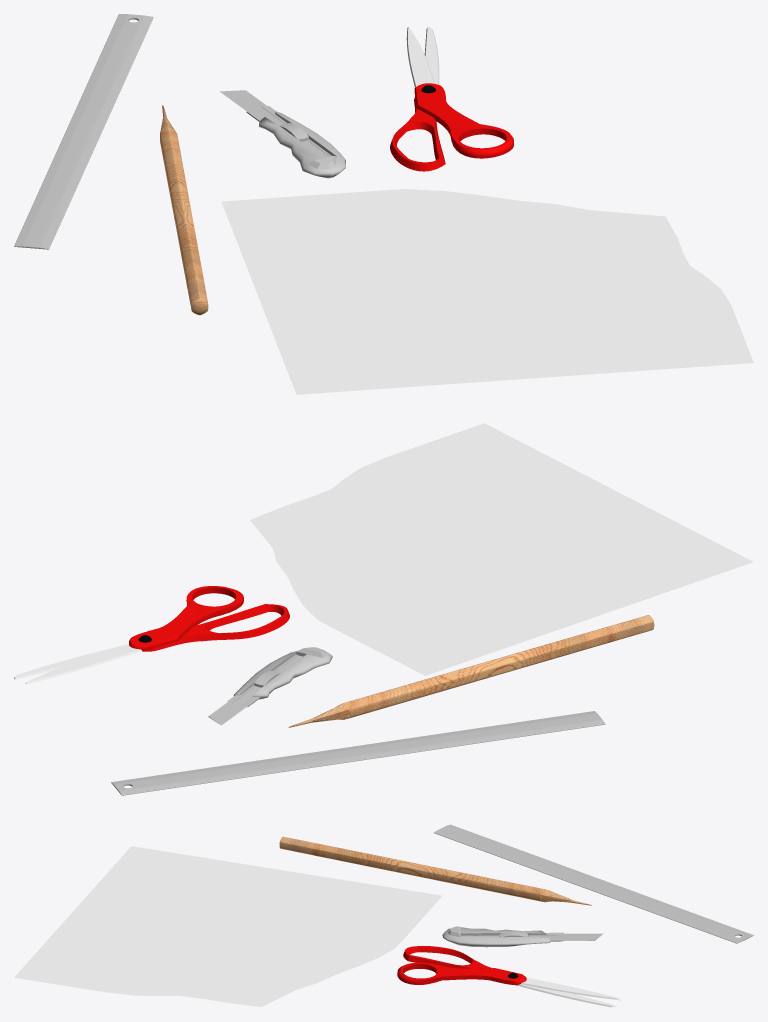
Rendered from Accessories.fbx.
The picture shows the model from 3 angles, top to bottom: view 1: azimuth 30°, elevation 25°; view 2: azimuth 150°, elevation 25°; view 3: azimuth 270°, elevation 25°; orthographic projection. The views are drawn at different scales.
Visible parts, largest first — view 1: pPlane1, _ruler_V1, Scissors, KOH-I-NOOR, Box04; view 2: pPlane1, _ruler_V1, Scissors, KOH-I-NOOR, Box04; view 3: pPlane1, _ruler_V1, KOH-I-NOOR, Scissors, Box04.
Boxes of the visible parts, box(x1,y1,x2,y2) form: pPlane1: box(221, 189, 753, 394); _ruler_V1: box(14, 14, 153, 249); Scissors: box(390, 26, 513, 171); KOH-I-NOOR: box(160, 105, 208, 315); Box04: box(219, 90, 345, 178); pPlane1: box(250, 423, 753, 675); _ruler_V1: box(111, 711, 605, 795); Scissors: box(14, 586, 289, 683); KOH-I-NOOR: box(288, 615, 654, 727); Box04: box(208, 647, 332, 725); pPlane1: box(14, 846, 442, 1006); _ruler_V1: box(434, 824, 753, 943); KOH-I-NOOR: box(279, 836, 591, 905); Scissors: box(397, 946, 621, 1007); Box04: box(442, 926, 603, 947).
Size of the model in its own units: 369 by 17.63 by 619.
